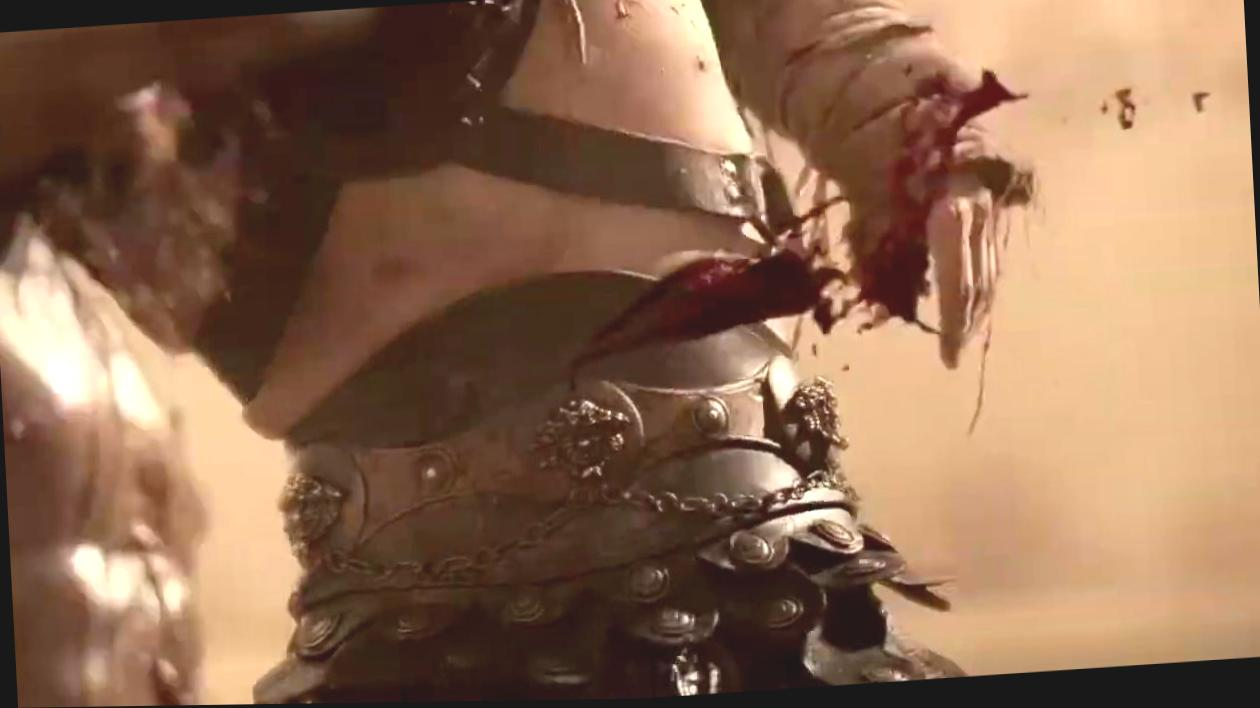Fire: (576, 71, 1033, 366), (1116, 89, 1139, 132), (1193, 93, 1212, 115), (1102, 101, 1112, 115)
